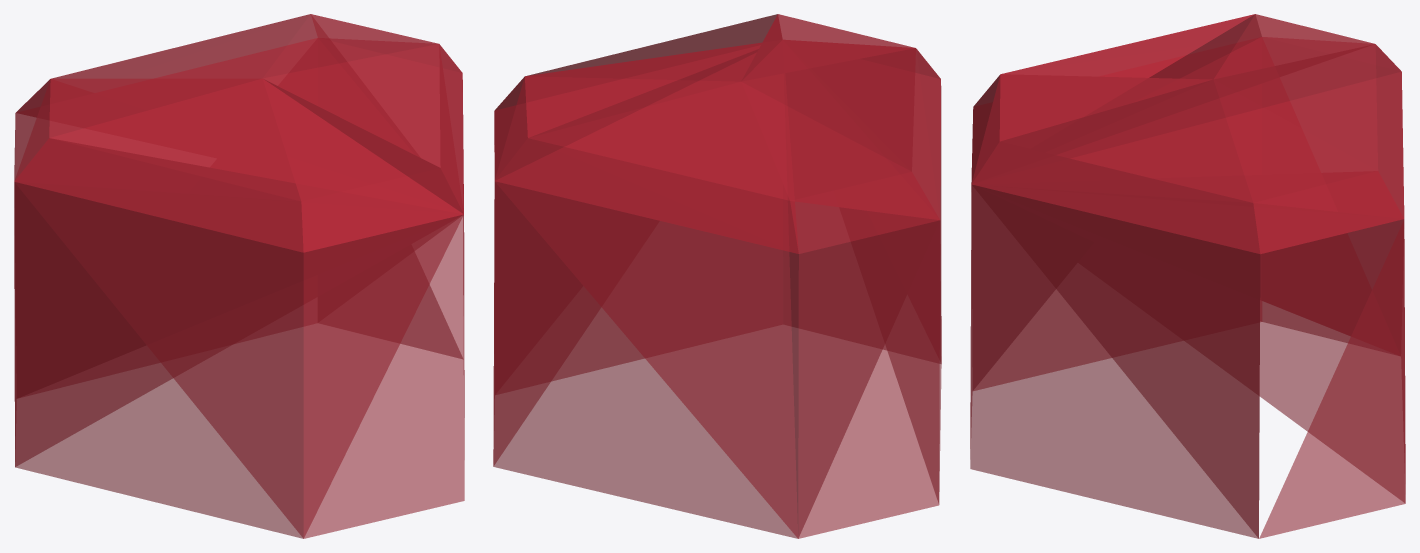
Rendered from S.S._Dolphin_Guard_Satellite_2.obj.
The picture shows the model from 3 angles, left to right: view 1: azimuth 30°, elevation 25°; view 2: azimuth 150°, elevation 25°; view 3: azimuth 270°, elevation 25°; orthographic projection.
Visible parts, largest first — view 1: S.S._Dolphin_Guard_Satellite_2; view 2: S.S._Dolphin_Guard_Satellite_2; view 3: S.S._Dolphin_Guard_Satellite_2.
Part boxes in pixels (x1,y1,x2,y2): S.S._Dolphin_Guard_Satellite_2: [14, 14, 464, 538]; S.S._Dolphin_Guard_Satellite_2: [493, 14, 941, 538]; S.S._Dolphin_Guard_Satellite_2: [970, 14, 1405, 538].
Size of the model in its own units: 1.49 by 1.12 by 1.26.
